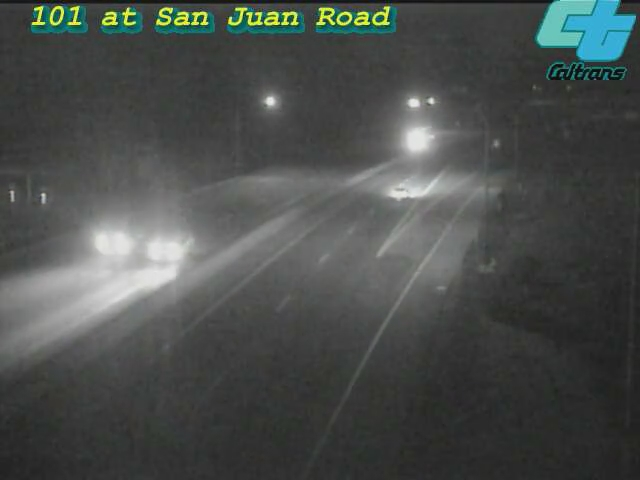vehicle: (72, 205, 152, 285), (124, 210, 204, 290), (357, 156, 437, 236), (391, 115, 441, 165)
